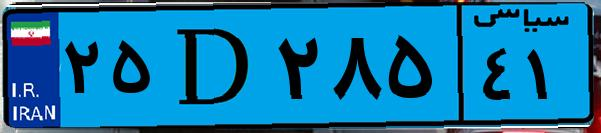1: (525, 38, 570, 115)
2: (270, 28, 330, 110), (57, 26, 110, 100)
4: (475, 38, 525, 113)
5: (385, 28, 445, 110), (110, 28, 158, 98)
8: (330, 28, 385, 110)
D: (158, 12, 270, 120)
